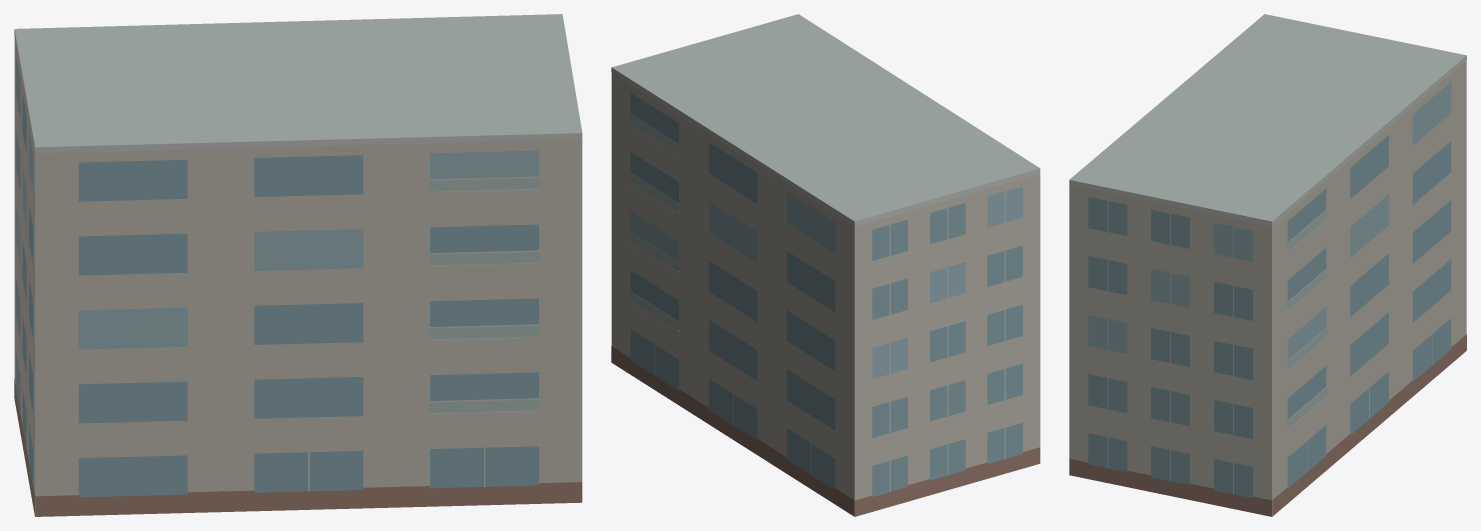
Rendered from survey-upis-32844476.glb.
The picture shows the model from 3 angles, left to right: view 1: azimuth 30°, elevation 25°; view 2: azimuth 150°, elevation 25°; view 3: azimuth 270°, elevation 25°; orthographic projection. The views are drawn at different scales.
Parts seen in each view (by area): view 1: survey-upis-32844476.tmp; view 2: survey-upis-32844476.tmp; view 3: survey-upis-32844476.tmp.
Boxes of the visible parts, <box> form: survey-upis-32844476.tmp: <box>14,14,582,516</box>; survey-upis-32844476.tmp: <box>611,14,1040,516</box>; survey-upis-32844476.tmp: <box>1069,14,1466,516</box>.
Bounding box in the file's own units: 21.48 × 14.25 × 17.39.
